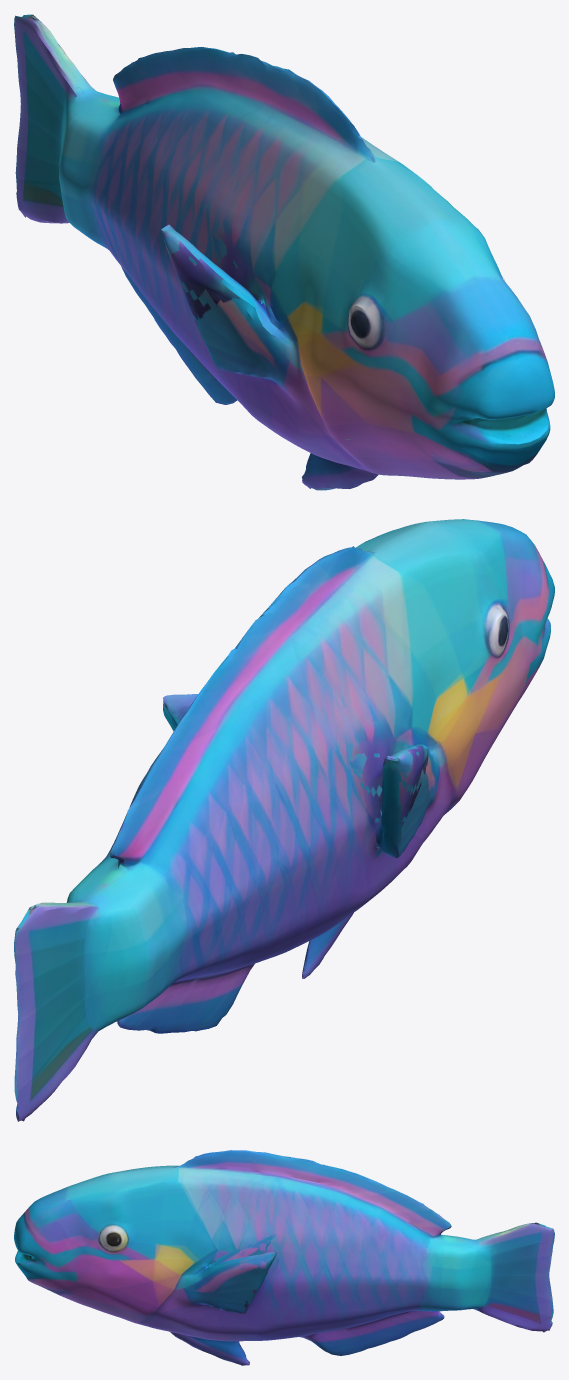
Rendered from Meshy_AI_Prismatic_Rainbow_Fis_0629023221_texture.obj.
3 renders of one model, top to bottom at view 1: azimuth 30°, elevation 25°; view 2: azimuth 150°, elevation 25°; view 3: azimuth 270°, elevation 25°, orthographic. The views are drawn at different scales.
Visible parts, largest first — view 1: Mesh0; view 2: Mesh0; view 3: Mesh0.
Part boxes in pixels (<box>): Mesh0: <box>14,14,554,490</box>; Mesh0: <box>14,519,554,1121</box>; Mesh0: <box>14,1150,554,1365</box>.
Bounding box in the file's own units: 0.5533 × 0.8813 × 2.
